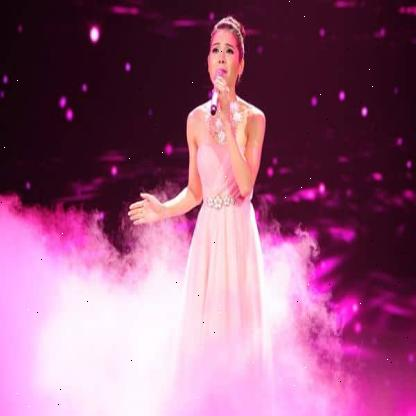smoke: (3, 192, 351, 416)
